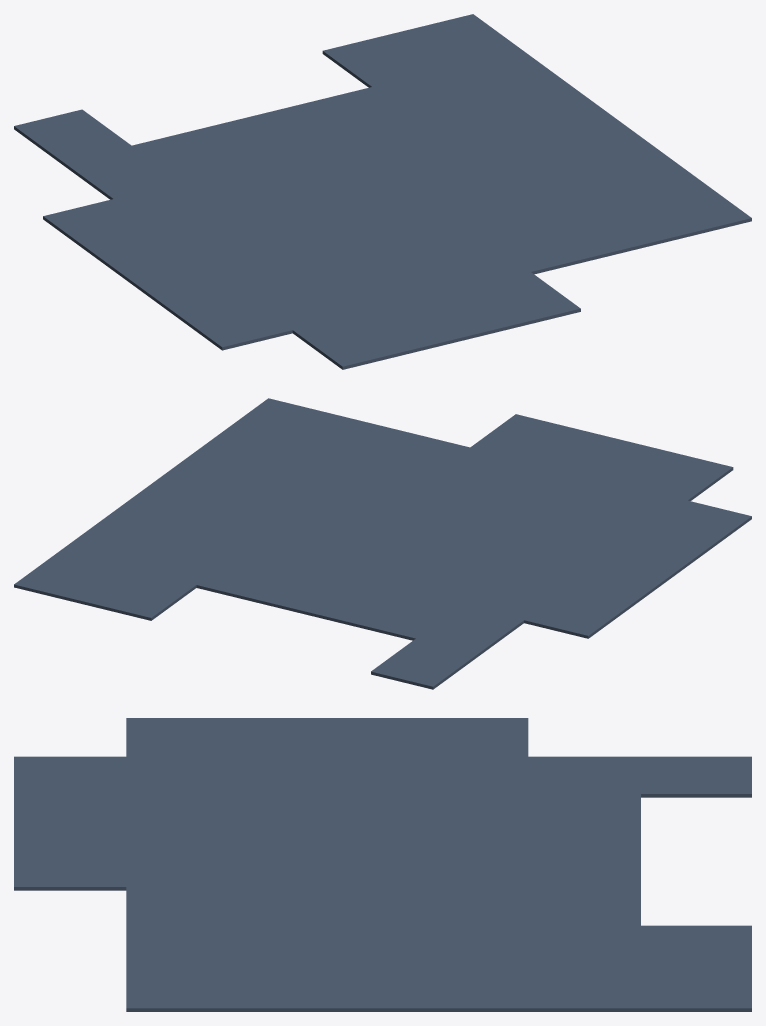
The model's file is floor_geometry.obj.
3 views of the same model, one above another, from view 1: azimuth 30°, elevation 25°; view 2: azimuth 150°, elevation 25°; view 3: azimuth 270°, elevation 25° (orthographic). The views are drawn at different scales.
Visible parts, largest first — view 1: Floor_001_l_chamber_3_kamera_3_rannyaya_kapsula_floor, Floor_014_l_chamber_3_operatorskaya_floor, Floor_013_l_chamber_3_zaschischennaya_floor, Floor_009_l_chamber_3_gruzovoy_germoshlyuz_floor, Floor_015_l_chamber_3_diagnostika_floor, Floor_006_l_chamber_3_post_floor, Floor_011_l_chamber_3_personalnyy_shlyuz_floor, Floor_012_l_chamber_3_gazovyy_kollektor_floor, Floor_003_l_chamber_3_podhod_k_postu_floor; view 2: Floor_001_l_chamber_3_kamera_3_rannyaya_kapsula_floor, Floor_013_l_chamber_3_zaschischennaya_floor, Floor_014_l_chamber_3_operatorskaya_floor, Floor_009_l_chamber_3_gruzovoy_germoshlyuz_floor, Floor_006_l_chamber_3_post_floor, Floor_015_l_chamber_3_diagnostika_floor, Floor_011_l_chamber_3_personalnyy_shlyuz_floor, Floor_012_l_chamber_3_gazovyy_kollektor_floor, Floor_003_l_chamber_3_podhod_k_postu_floor; view 3: Floor_001_l_chamber_3_kamera_3_rannyaya_kapsula_floor, Floor_014_l_chamber_3_operatorskaya_floor, Floor_013_l_chamber_3_zaschischennaya_floor, Floor_009_l_chamber_3_gruzovoy_germoshlyuz_floor, Floor_015_l_chamber_3_diagnostika_floor, Floor_006_l_chamber_3_post_floor, Floor_011_l_chamber_3_personalnyy_shlyuz_floor, Floor_012_l_chamber_3_gazovyy_kollektor_floor, Floor_003_l_chamber_3_podhod_k_postu_floor, Floor_004_l_chamber_3_podhod_k_postu_floor.
Boxes of the visible parts, x1,y1,x2,y2 form: Floor_001_l_chamber_3_kamera_3_rannyaya_kapsula_floor: [43, 123, 601, 350]; Floor_014_l_chamber_3_operatorskaya_floor: [439, 99, 707, 222]; Floor_013_l_chamber_3_zaschischennaya_floor: [322, 14, 588, 135]; Floor_009_l_chamber_3_gruzovoy_germoshlyuz_floor: [295, 272, 580, 369]; Floor_015_l_chamber_3_diagnostika_floor: [558, 186, 751, 257]; Floor_006_l_chamber_3_post_floor: [66, 129, 250, 198]; Floor_011_l_chamber_3_personalnyy_shlyuz_floor: [206, 104, 351, 164]; Floor_012_l_chamber_3_gazovyy_kollektor_floor: [302, 87, 421, 140]; Floor_003_l_chamber_3_podhod_k_postu_floor: [16, 110, 128, 161]; Floor_001_l_chamber_3_kamera_3_rannyaya_kapsula_floor: [242, 432, 751, 638]; Floor_013_l_chamber_3_zaschischennaya_floor: [14, 507, 256, 620]; Floor_014_l_chamber_3_operatorskaya_floor: [120, 427, 365, 540]; Floor_009_l_chamber_3_gruzovoy_germoshlyuz_floor: [470, 414, 730, 499]; Floor_006_l_chamber_3_post_floor: [353, 589, 521, 652]; Floor_015_l_chamber_3_diagnostika_floor: [229, 398, 405, 460]; Floor_011_l_chamber_3_personalnyy_shlyuz_floor: [261, 567, 393, 624]; Floor_012_l_chamber_3_gazovyy_kollektor_floor: [196, 551, 306, 603]; Floor_003_l_chamber_3_podhod_k_postu_floor: [373, 639, 475, 688]; Floor_001_l_chamber_3_kamera_3_rannyaya_kapsula_floor: [126, 718, 528, 925]; Floor_014_l_chamber_3_operatorskaya_floor: [223, 925, 491, 1011]; Floor_013_l_chamber_3_zaschischennaya_floor: [491, 925, 751, 1011]; Floor_009_l_chamber_3_gruzovoy_germoshlyuz_floor: [14, 758, 126, 890]; Floor_015_l_chamber_3_diagnostika_floor: [126, 925, 223, 1011]; Floor_006_l_chamber_3_post_floor: [528, 758, 640, 831]; Floor_011_l_chamber_3_personalnyy_shlyuz_floor: [528, 834, 640, 886]; Floor_012_l_chamber_3_gazovyy_kollektor_floor: [528, 887, 640, 925]; Floor_003_l_chamber_3_podhod_k_postu_floor: [641, 758, 751, 792]; Floor_004_l_chamber_3_podhod_k_postu_floor: [641, 792, 751, 797].
Bounding box in the file's own units: 34.14 × 0.2 × 36.7.
